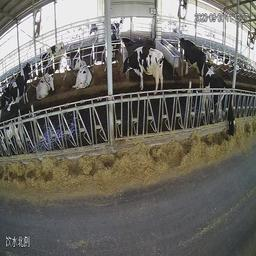cow: (201, 62, 236, 137), (122, 43, 168, 97), (178, 33, 205, 91), (9, 56, 32, 107), (71, 55, 92, 91), (41, 41, 65, 71), (35, 70, 55, 102), (106, 29, 118, 66), (206, 45, 223, 66), (110, 21, 120, 41)
